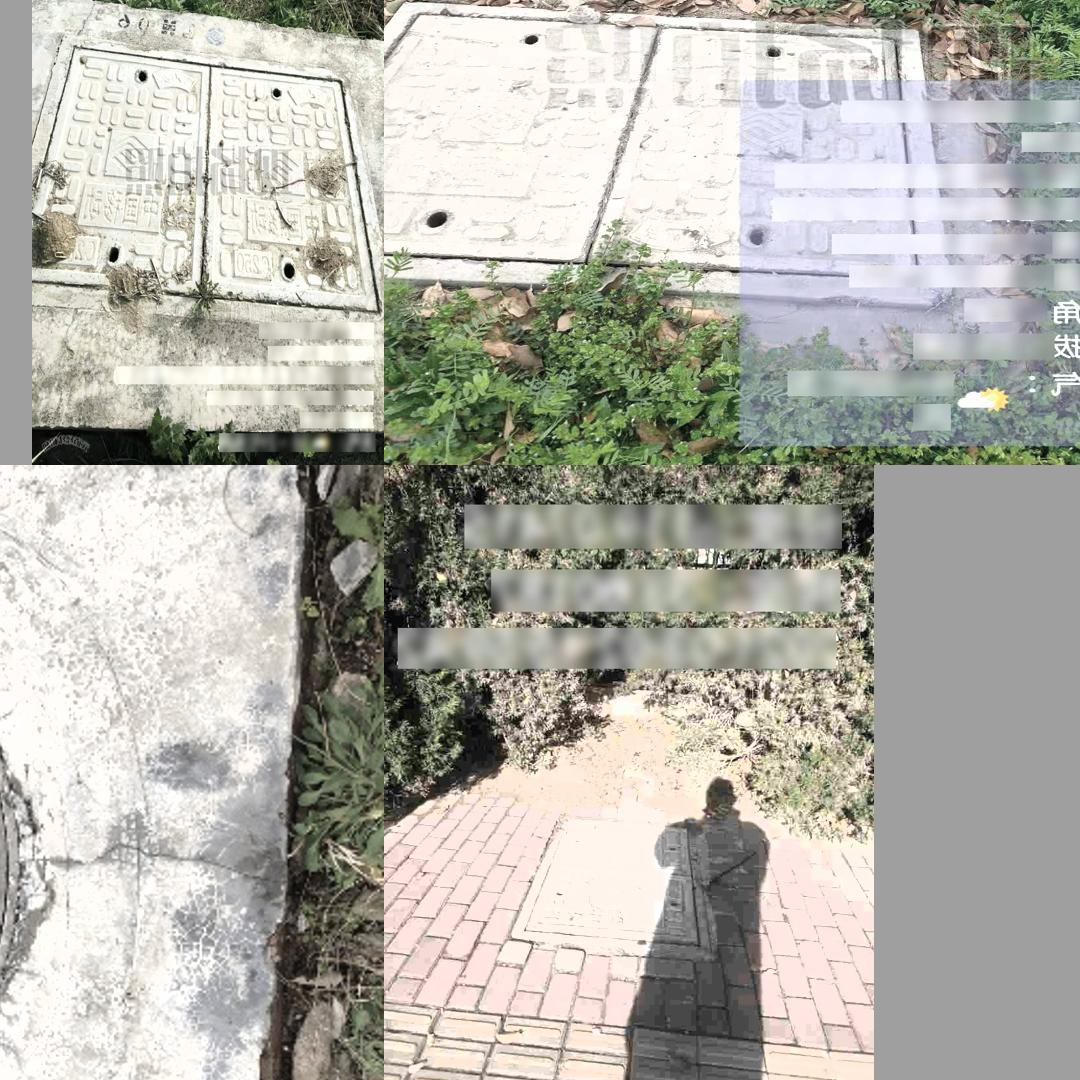good: (384, 0, 954, 306), (32, 31, 383, 326), (510, 812, 709, 957), (0, 614, 15, 1080)
